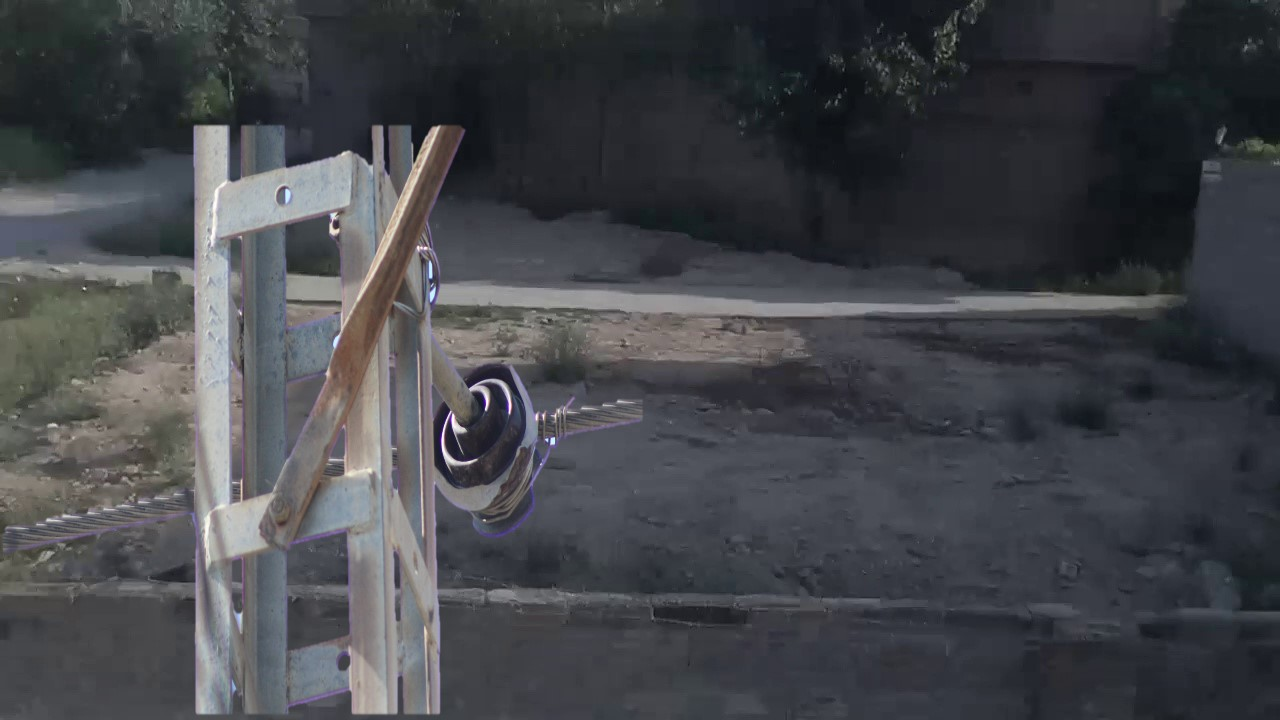defect_pin: (425, 365, 547, 539)
